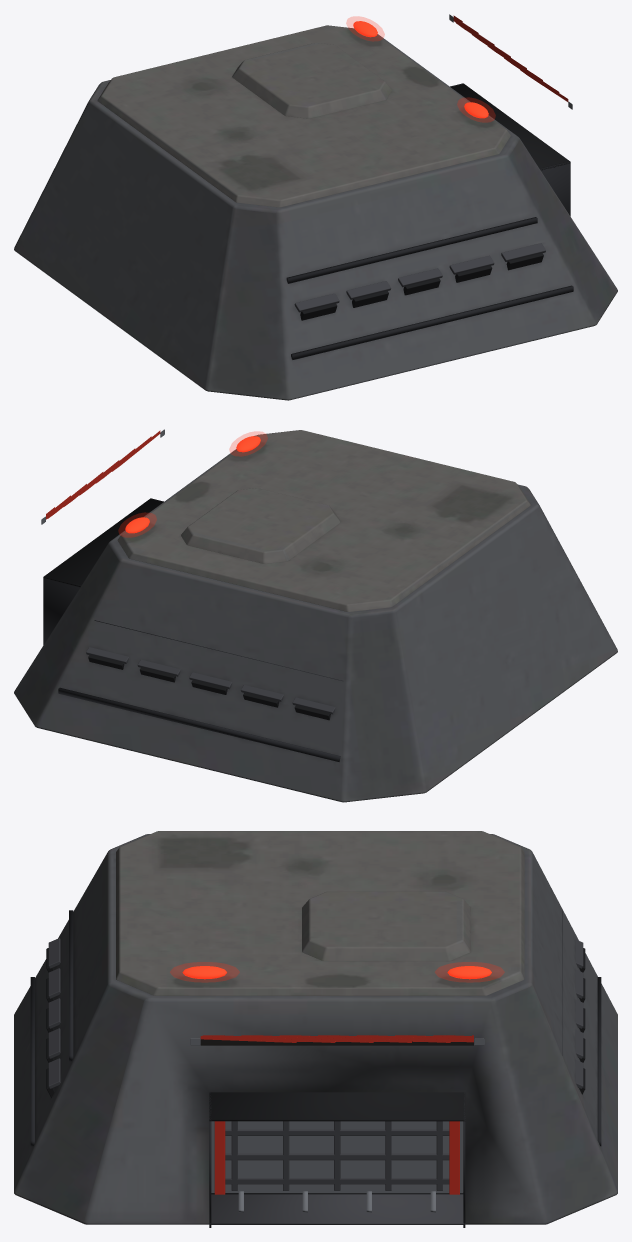
The model's file is NAWEAP.glb.
3 views of the same model, one above another, from view 1: azimuth 30°, elevation 25°; view 2: azimuth 150°, elevation 25°; view 3: azimuth 270°, elevation 25° (orthographic). The views are drawn at different scales.
Visible parts, largest first — view 1: Bunker, Roof, WallDetails, GateLining, Ramp, GateLamp0Light, GateLamp2Light; view 2: Bunker, Roof, WallDetails, GateLining, Ramp, GateLamp0Light, GateLamp2Light; view 3: Bunker, Roof, GatePanel, GateLining, WallDetails, Ramp, GateLamp0Light, GateLamp2Light.
Boxes of the visible parts, bbox=[...] form: Bunker: bbox=[14, 34, 617, 400]; Roof: bbox=[97, 25, 510, 207]; WallDetails: bbox=[286, 217, 573, 359]; GateLining: bbox=[450, 83, 570, 216]; Ramp: bbox=[449, 14, 572, 109]; GateLamp0Light: bbox=[457, 97, 495, 122]; GateLamp2Light: bbox=[346, 16, 384, 41]; Bunker: bbox=[14, 435, 617, 802]; Roof: bbox=[117, 430, 530, 611]; WallDetails: bbox=[58, 620, 343, 761]; GateLining: bbox=[43, 498, 163, 644]; Ramp: bbox=[41, 429, 164, 524]; GateLamp0Light: bbox=[229, 431, 267, 456]; GateLamp2Light: bbox=[118, 512, 156, 537]; Bunker: bbox=[14, 834, 617, 1224]; Roof: bbox=[116, 831, 524, 995]; GatePanel: bbox=[211, 1121, 463, 1194]; GateLining: bbox=[209, 1092, 465, 1227]; WallDetails: bbox=[30, 910, 601, 1146]; Ramp: bbox=[190, 1035, 484, 1045]; GateLamp0Light: bbox=[170, 962, 239, 982]; GateLamp2Light: bbox=[435, 962, 504, 982].
Size of the model in its own units: 2.68 by 1.07 by 2.83.
14 materials, 3 textured.
